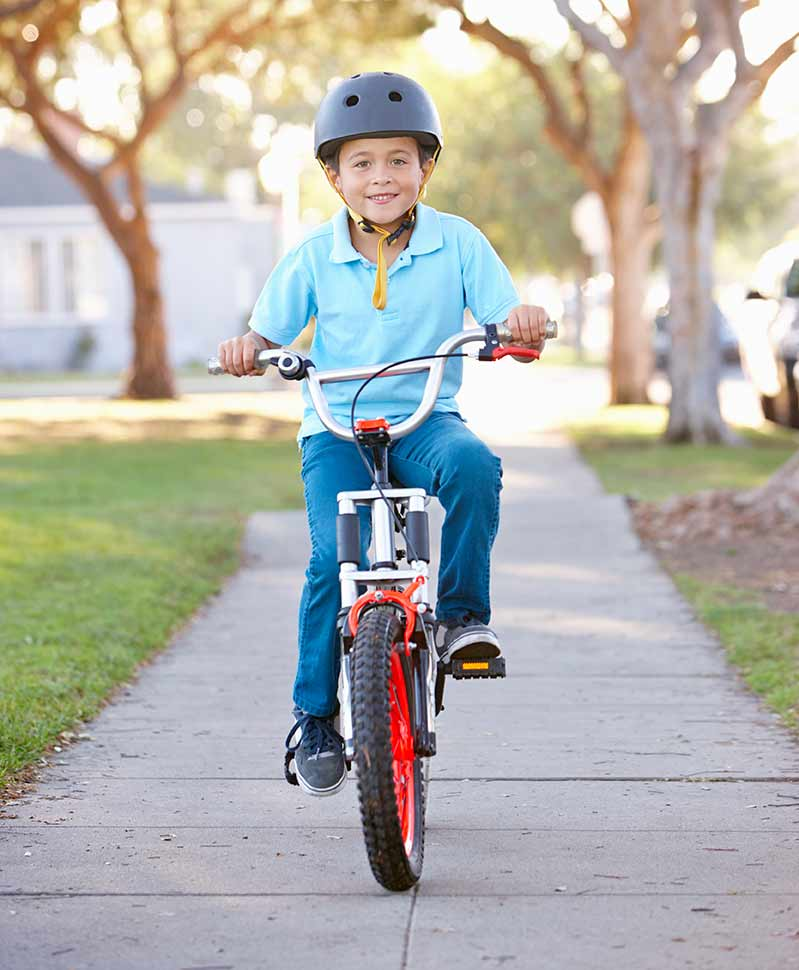Bicycle: (274, 380, 519, 909)
Person: (259, 68, 542, 594)
